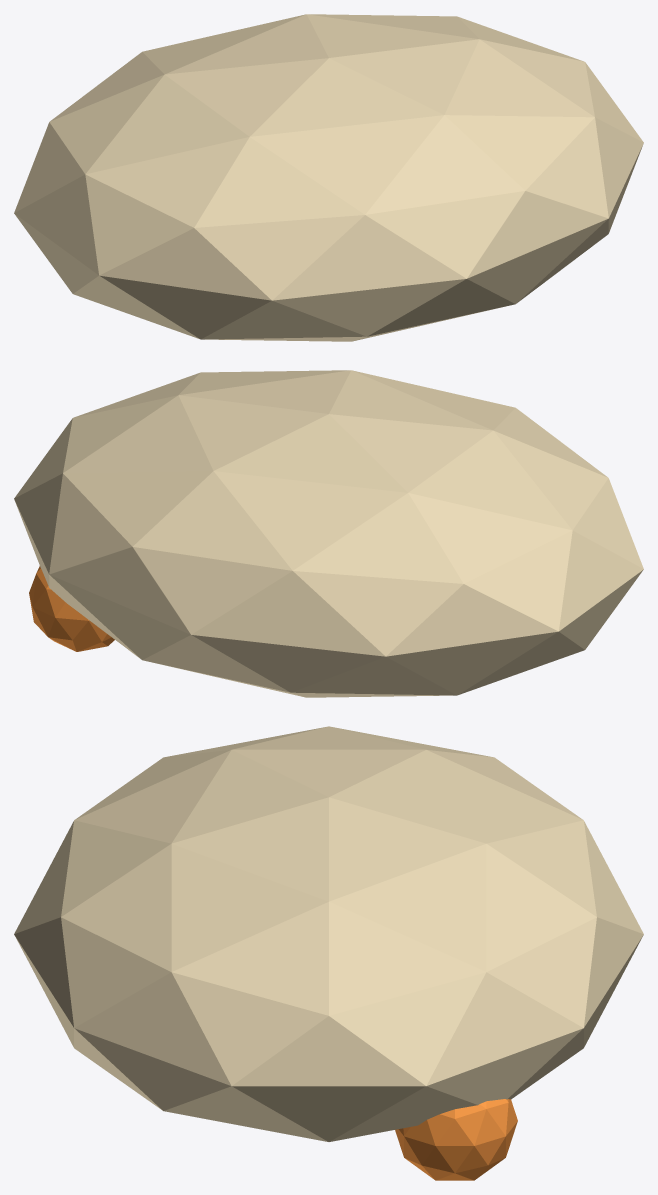
Rendered from sm_product_fishing_net.glb.
3 views of the same model, one above another, from view 1: azimuth 30°, elevation 25°; view 2: azimuth 150°, elevation 25°; view 3: azimuth 270°, elevation 25° (orthographic). The views are drawn at different scales.
Parts seen in each view (by area): view 1: fishing_net_0; view 2: fishing_net_0, fishing_net_1; view 3: fishing_net_0, fishing_net_1.
Part boxes in pixels (x1=…): fishing_net_0: x1=14, y1=14, x2=643, y2=341; fishing_net_0: x1=14, y1=370, x2=643, y2=697; fishing_net_1: x1=29, y1=566, x2=114, y2=651; fishing_net_0: x1=14, y1=726, x2=643, y2=1141; fishing_net_1: x1=395, y1=1099, x2=517, y2=1180.
Size of what is drawn, in the model's own units: 0.5706 by 0.24 by 0.5.
